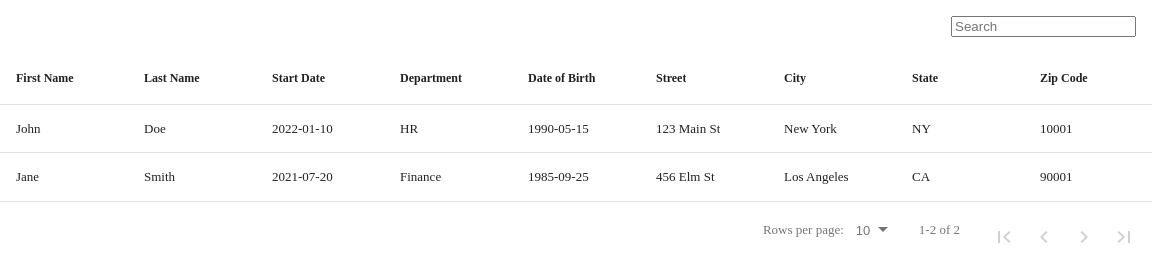
EmployeeListTable unit tests suite › should shows all employee when search input is cleared
Type "Jane" into the field with placeholder "Search" at x=1044, y=26, box [951,16,1136,36]
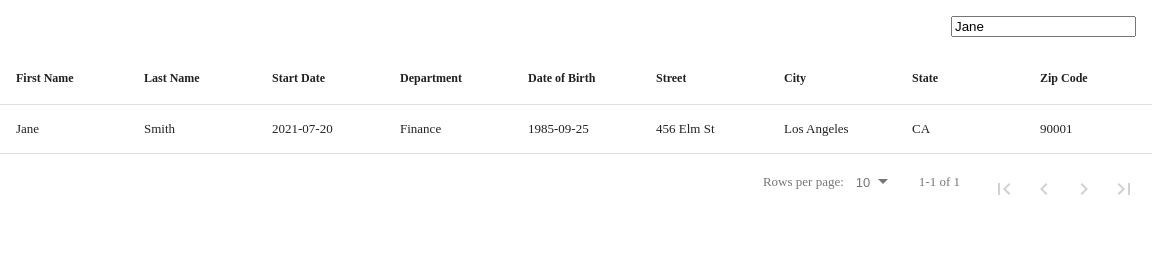
Now the text "John" is gone
Clear the field with placeholder "Search" at x=1044, y=26, box [951,16,1136,36]
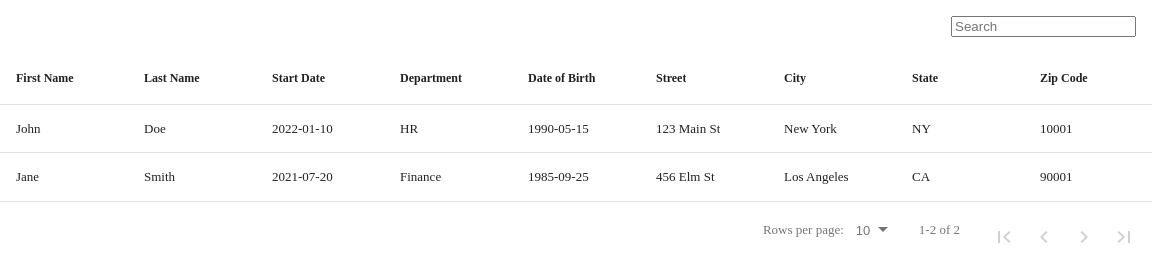
Expected: the text "Jane" is shown, [16,169,39,185]
Now the text "John" is shown, box [16,120,41,136]
